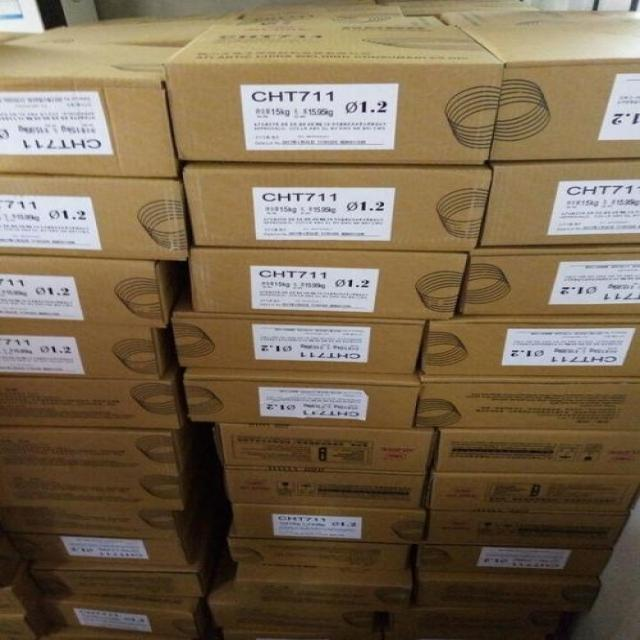box: (163, 4, 502, 164), (0, 10, 242, 177), (438, 11, 640, 160), (183, 161, 492, 251), (191, 243, 471, 320), (170, 300, 428, 374), (0, 173, 189, 261), (183, 368, 421, 429), (480, 158, 639, 246), (411, 369, 639, 430), (420, 315, 640, 378), (33, 525, 215, 598), (460, 244, 640, 317), (0, 255, 175, 327), (0, 364, 188, 429), (0, 418, 196, 478), (216, 423, 435, 474), (421, 464, 639, 512), (0, 517, 209, 566), (227, 516, 410, 571), (209, 579, 394, 632), (434, 429, 640, 474), (0, 326, 166, 378), (0, 468, 205, 510), (0, 498, 209, 539), (224, 467, 428, 508), (416, 571, 603, 613), (429, 510, 628, 549), (234, 563, 412, 606), (38, 594, 212, 637), (232, 505, 425, 543), (417, 542, 612, 578), (398, 0, 541, 16), (0, 595, 46, 640), (0, 561, 31, 613)
